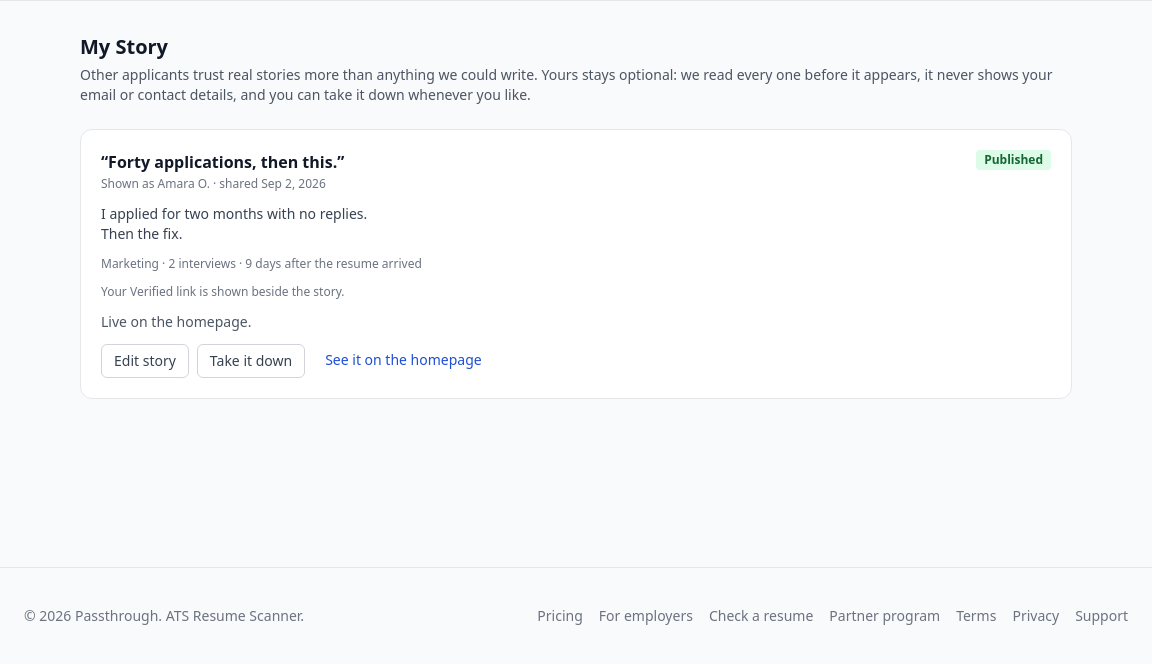
My Story › saving an approved story with no changes says it is still published
Click the button "Edit story" at (145, 361), box [101,344,189,378]
(page scrolled)
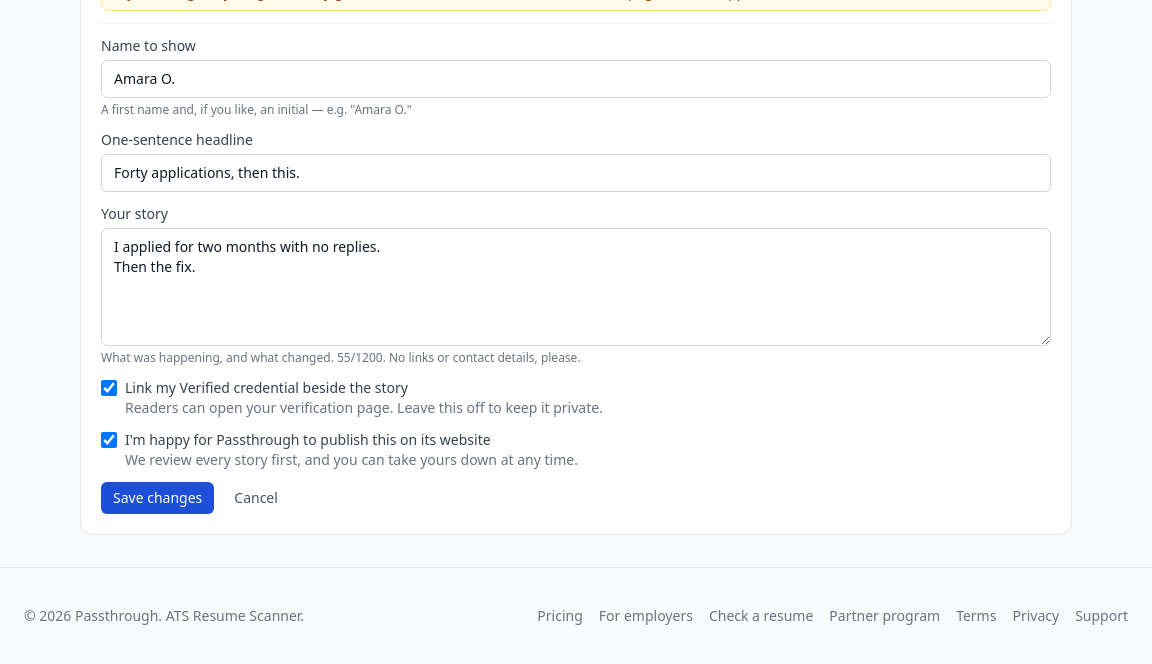
Click the button "Save changes" at (158, 498), box [101,482,214,514]
(page scrolled)
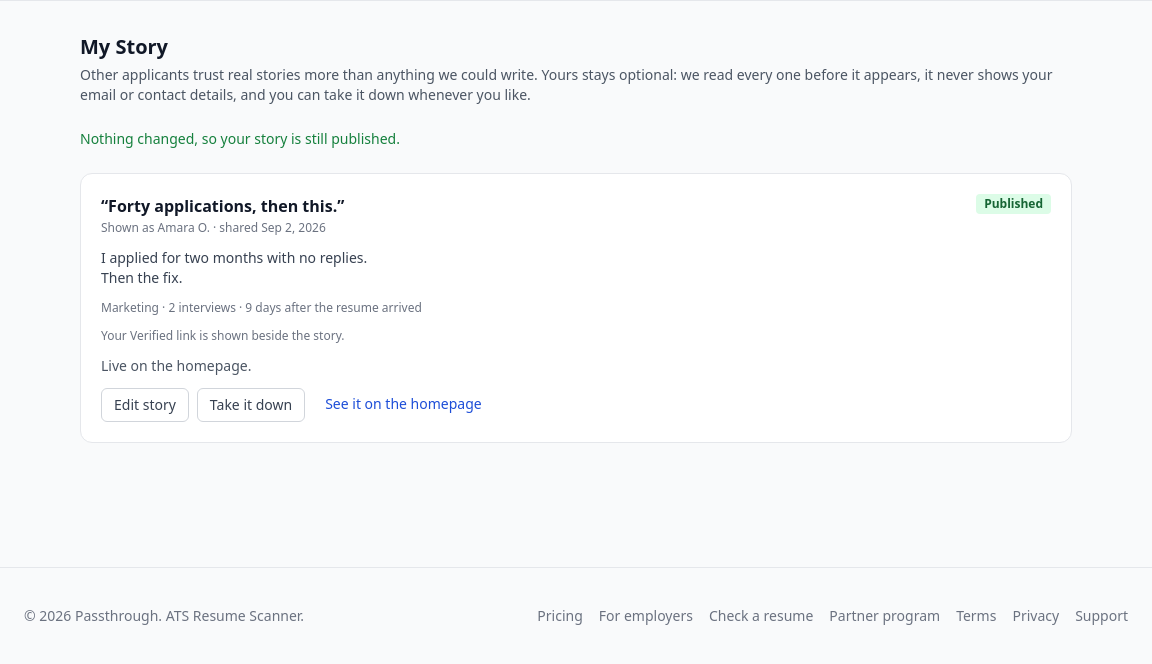
Result: the text "Nothing changed, so your story is still published." is shown at [80,129,400,148]
